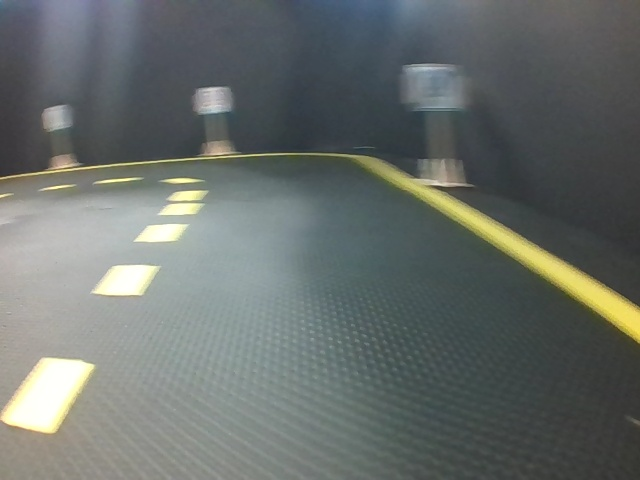30: (196, 89, 231, 115)
no30: (411, 65, 461, 110)
